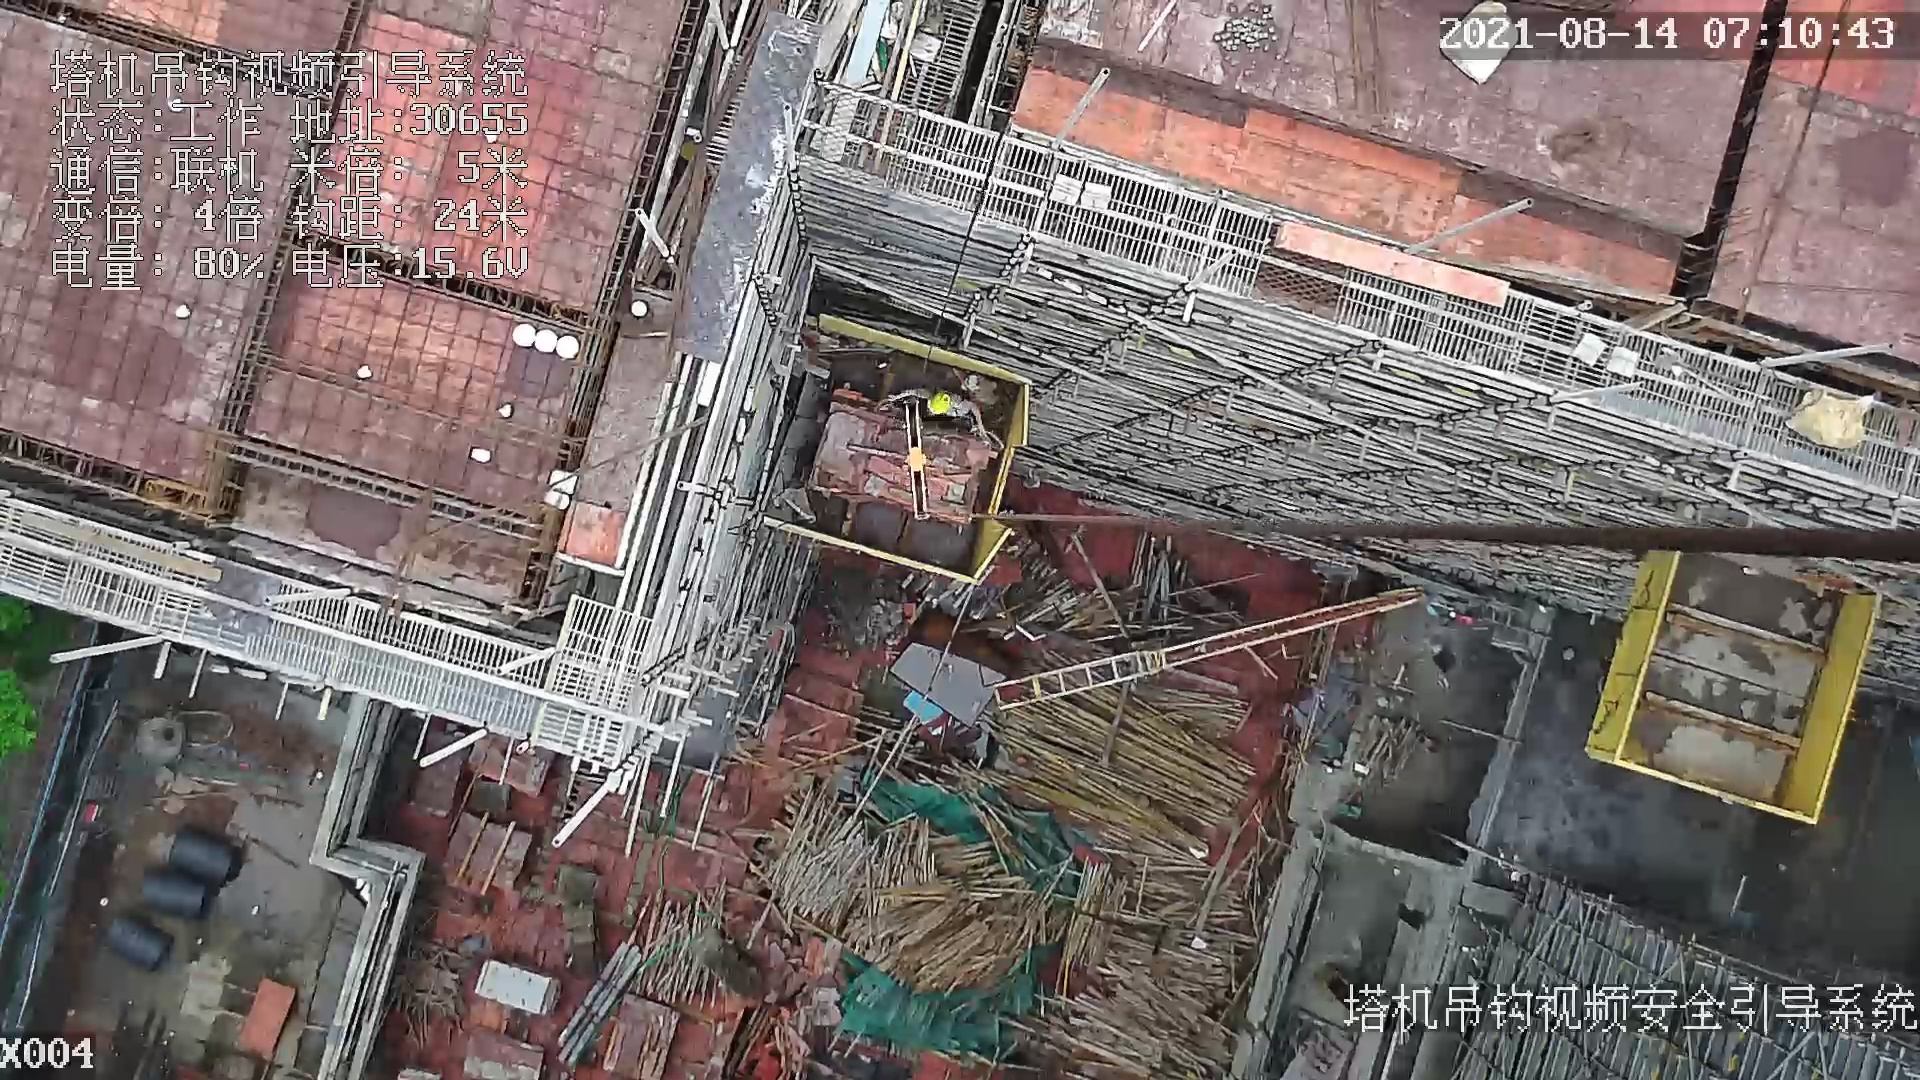helmet: (928, 392, 952, 417)
hook: (897, 400, 938, 522)
person: (897, 386, 990, 440)
